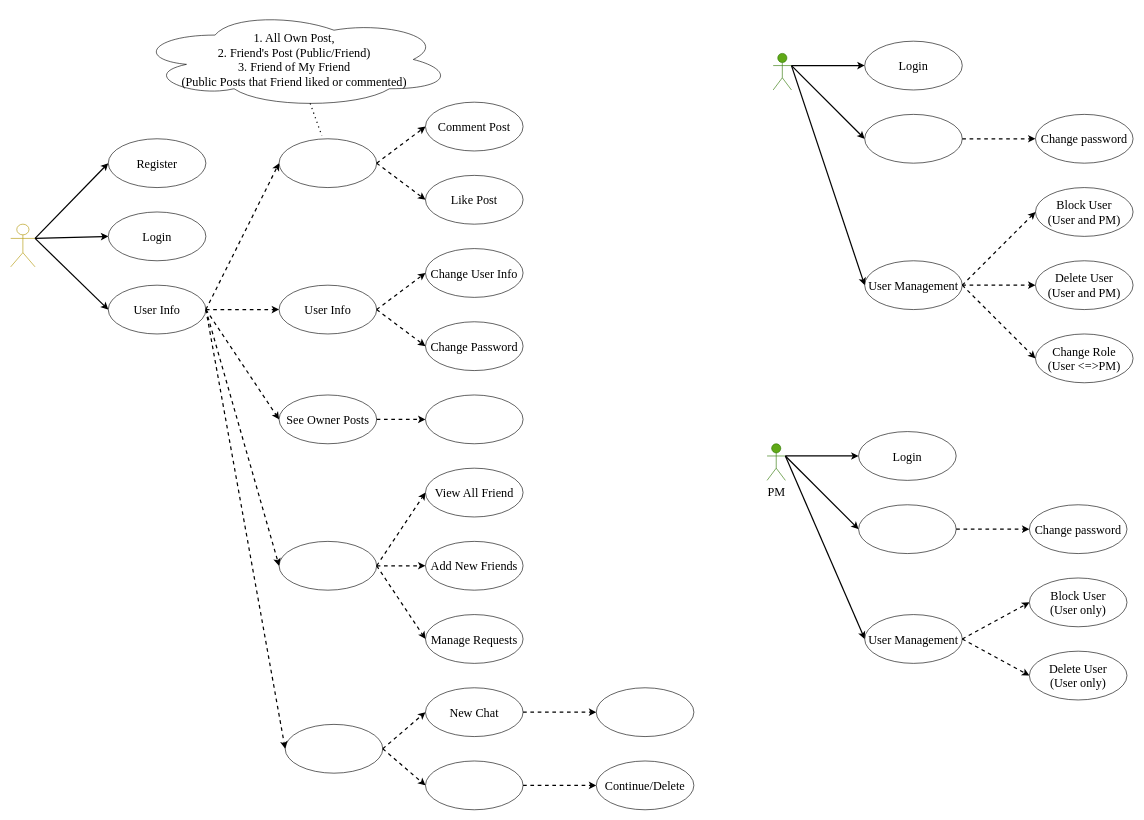
Some shapes in this 1144 by 820 pixel diagram are drawn without their labels. The centre of each missing label's shape, as x and y in pixels:
"Admin" goes at pixel 782 71.
"Admin Info" goes at pixel 913 138.
"Admin/PM Info" goes at pixel 907 529.
"Chat List" goes at pixel 334 748.
"Current Chat List" goes at pixel 474 785.
"Find Acc to New Chat" goes at pixel 645 712.
"Friend List" goes at pixel 327 565.
"User" goes at pixel 22 245.
"View All Post" goes at pixel 327 163.
"View Detail Update/Delete" goes at pixel 474 419.
